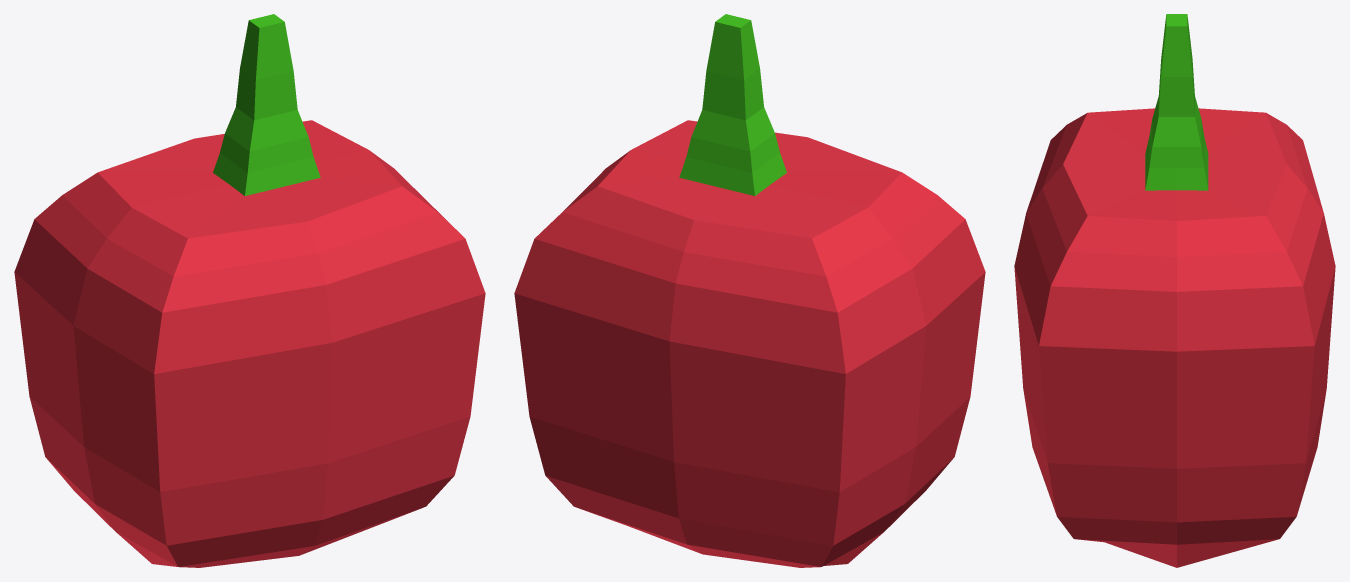
The model's file is tomato.fbx.
The picture shows the model from 3 angles, left to right: view 1: azimuth 30°, elevation 25°; view 2: azimuth 150°, elevation 25°; view 3: azimuth 270°, elevation 25°; orthographic projection.
Parts seen in each view (by area): view 1: Tomato; view 2: Tomato; view 3: Tomato.
Part boxes in pixels (box(x1,y1,x2,y2)): Tomato: box(14, 14, 485, 567); Tomato: box(514, 14, 985, 567); Tomato: box(1014, 14, 1335, 567).
Size of the model in its own units: 198 by 275 by 158.
